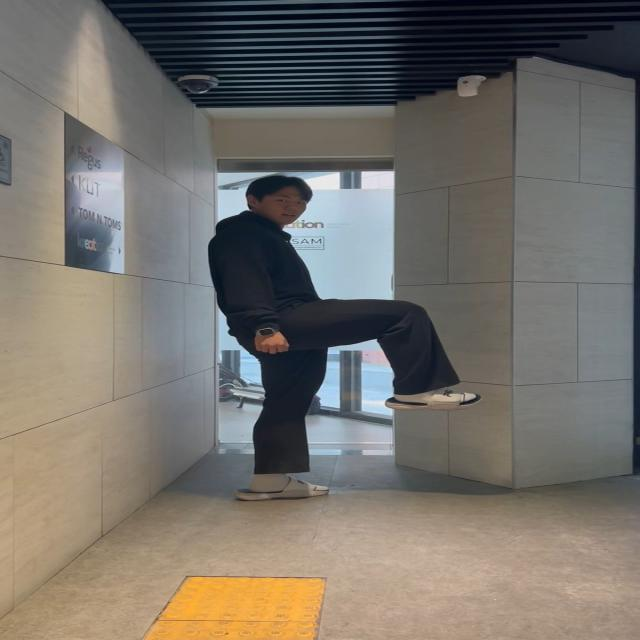knee: (303, 294, 481, 414)
